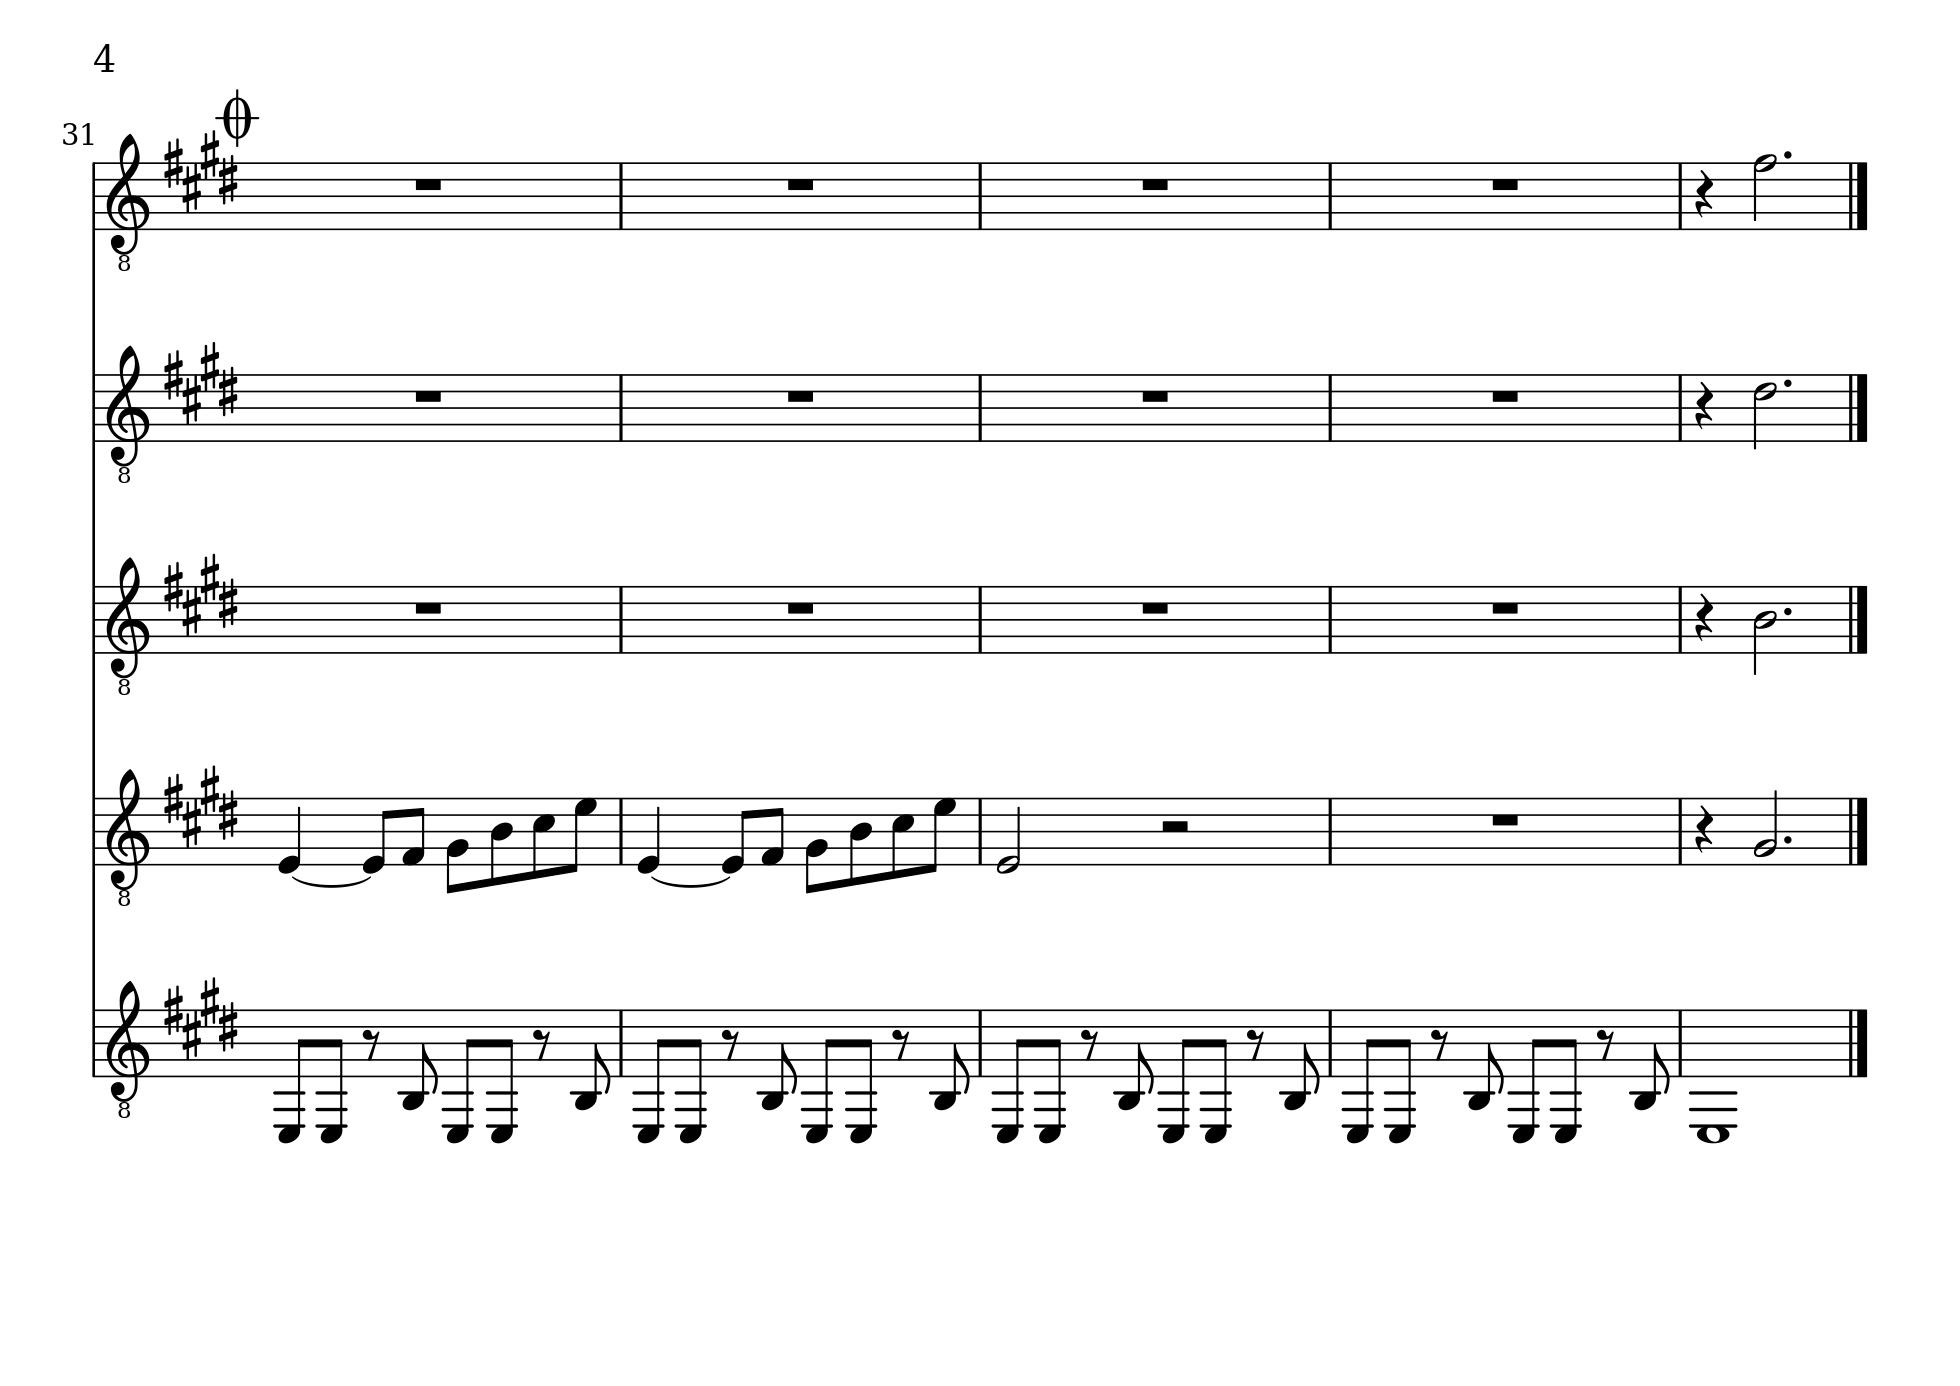1: (79, 118, 94, 148)
1_-7: (1689, 1006, 1740, 1144)
2_0: (996, 795, 1023, 874)
2_2: (1752, 787, 1780, 865)
2_4: (1752, 583, 1779, 673)
2_6: (1752, 372, 1779, 450)
2_8: (1752, 151, 1777, 231)
3: (61, 118, 76, 147)
4: (91, 40, 115, 72)
4_0: (277, 795, 304, 876), (634, 795, 661, 876)
8_-3: (571, 1006, 613, 1111), (757, 1006, 799, 1111), (930, 1006, 972, 1111), (1281, 1006, 1323, 1111), (397, 1006, 439, 1110), (1116, 1006, 1156, 1111), (1465, 1006, 1506, 1111), (1632, 1006, 1671, 1111)
8_-7: (1156, 1006, 1198, 1144), (442, 1005, 481, 1146), (1509, 1005, 1548, 1144), (991, 1006, 1030, 1144), (1341, 1006, 1380, 1144), (801, 1006, 838, 1146), (273, 1006, 310, 1144), (633, 1006, 669, 1144), (1035, 1005, 1066, 1147), (486, 1005, 517, 1146), (1201, 1005, 1233, 1146), (316, 1006, 348, 1144), (846, 1006, 877, 1144), (676, 1006, 706, 1144), (1386, 1006, 1416, 1144), (1552, 1006, 1582, 1143)
8_0: (360, 795, 393, 876), (720, 795, 751, 876)
8_1: (400, 795, 427, 867), (760, 795, 786, 867)
8_2: (444, 796, 471, 895), (802, 796, 829, 895)
8_4: (487, 796, 514, 886), (847, 796, 873, 886)
8_5: (529, 795, 556, 880), (889, 795, 915, 880)
8_7: (565, 795, 598, 874), (925, 795, 957, 874)
Coda: (214, 87, 259, 145)
E_S: (160, 552, 241, 637), (160, 340, 241, 424), (160, 763, 240, 849), (162, 973, 240, 1060), (163, 132, 240, 211)
Final_barline: (1845, 160, 1872, 229), (1845, 372, 1872, 441), (1845, 583, 1872, 652), (1843, 1006, 1870, 1075), (1845, 796, 1872, 864)
Lower_Gclef: (103, 553, 151, 697), (103, 130, 151, 273), (103, 343, 151, 484), (103, 766, 151, 907), (103, 979, 151, 1119)
Rests1: (409, 172, 447, 195), (409, 385, 447, 406), (1137, 172, 1173, 193), (1488, 172, 1524, 193), (1488, 595, 1524, 616), (783, 172, 817, 193), (1488, 384, 1524, 403), (1488, 808, 1524, 828), (783, 385, 817, 405), (1138, 385, 1173, 405), (411, 597, 445, 616), (783, 597, 817, 616), (1138, 597, 1173, 616)
Rests2: (1158, 817, 1194, 837)
Rests4: (1693, 804, 1716, 856), (1695, 169, 1716, 220), (1695, 379, 1716, 430), (1693, 592, 1714, 643)
Rests8: (360, 1027, 382, 1060), (531, 1027, 553, 1060), (718, 1027, 741, 1060), (889, 1026, 910, 1060), (1080, 1027, 1101, 1060), (1245, 1027, 1266, 1060), (1429, 1027, 1450, 1060), (1596, 1027, 1617, 1060)
Single_barline: (612, 373, 630, 441), (972, 373, 990, 441), (612, 163, 630, 229), (970, 1009, 988, 1075), (85, 373, 102, 444), (85, 585, 102, 655), (85, 796, 102, 867), (1323, 373, 1339, 441), (613, 796, 630, 864), (1672, 796, 1689, 864), (1672, 162, 1689, 228), (972, 163, 988, 229), (1323, 163, 1339, 229), (1672, 373, 1689, 439), (972, 586, 988, 652), (1672, 586, 1689, 652), (612, 1009, 628, 1075), (85, 160, 100, 231), (1323, 1009, 1338, 1077), (85, 1009, 100, 1077), (613, 586, 628, 652), (1323, 586, 1338, 652), (973, 798, 988, 864), (1323, 798, 1338, 864), (1672, 1009, 1687, 1075)
Slur: (291, 874, 370, 888), (651, 874, 730, 888)
dot: (1782, 832, 1794, 846)
